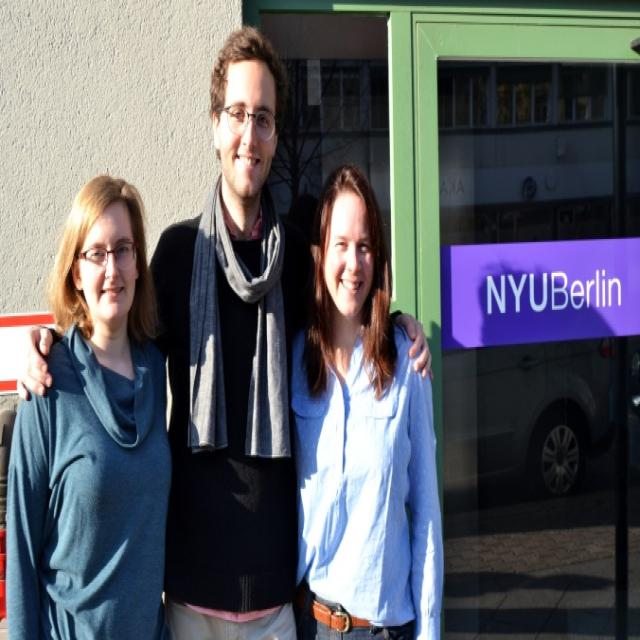body: (12, 17, 434, 638), (3, 168, 172, 639), (285, 156, 448, 638), (292, 26, 638, 173)
